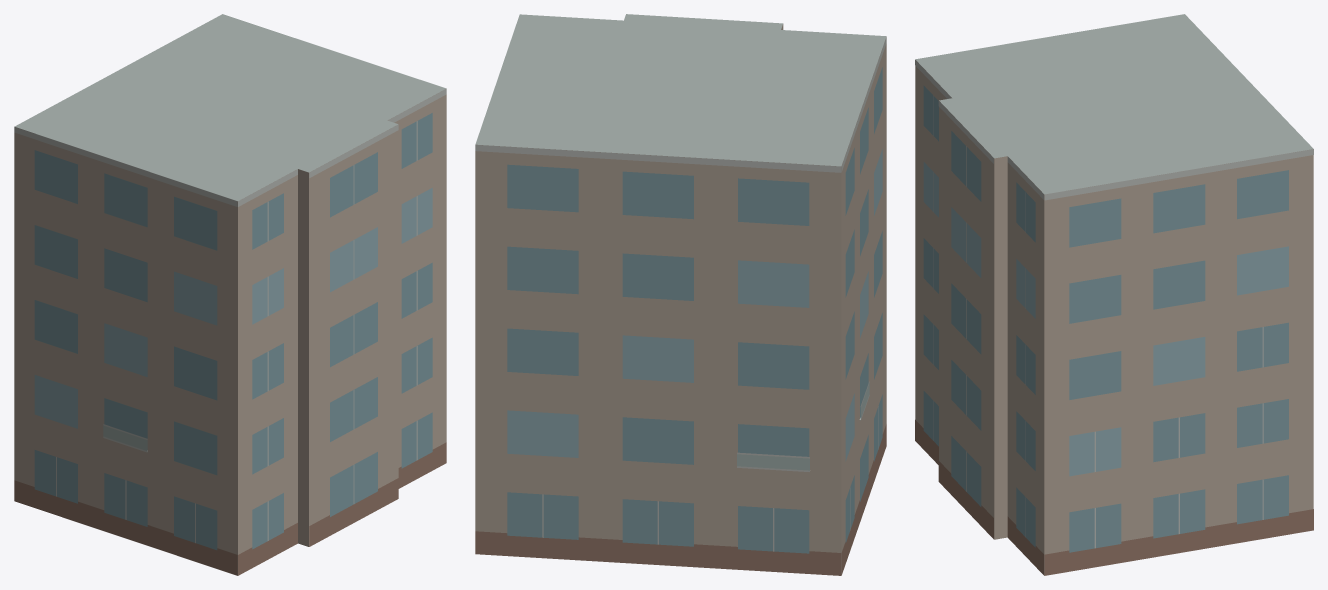
File: survey-upis-32755305.glb
3 views of the same model, side by side, from view 1: azimuth 30°, elevation 25°; view 2: azimuth 150°, elevation 25°; view 3: azimuth 270°, elevation 25° (orthographic). The views are drawn at different scales.
Visible parts, largest first — view 1: survey-upis-32755305.tmp; view 2: survey-upis-32755305.tmp; view 3: survey-upis-32755305.tmp.
Part boxes in pixels (bbox=[...]): survey-upis-32755305.tmp: bbox=[14, 14, 446, 575]; survey-upis-32755305.tmp: bbox=[475, 14, 886, 575]; survey-upis-32755305.tmp: bbox=[915, 14, 1313, 575].
Size of the model in its own units: 15.74 by 15.5 by 14.7.
